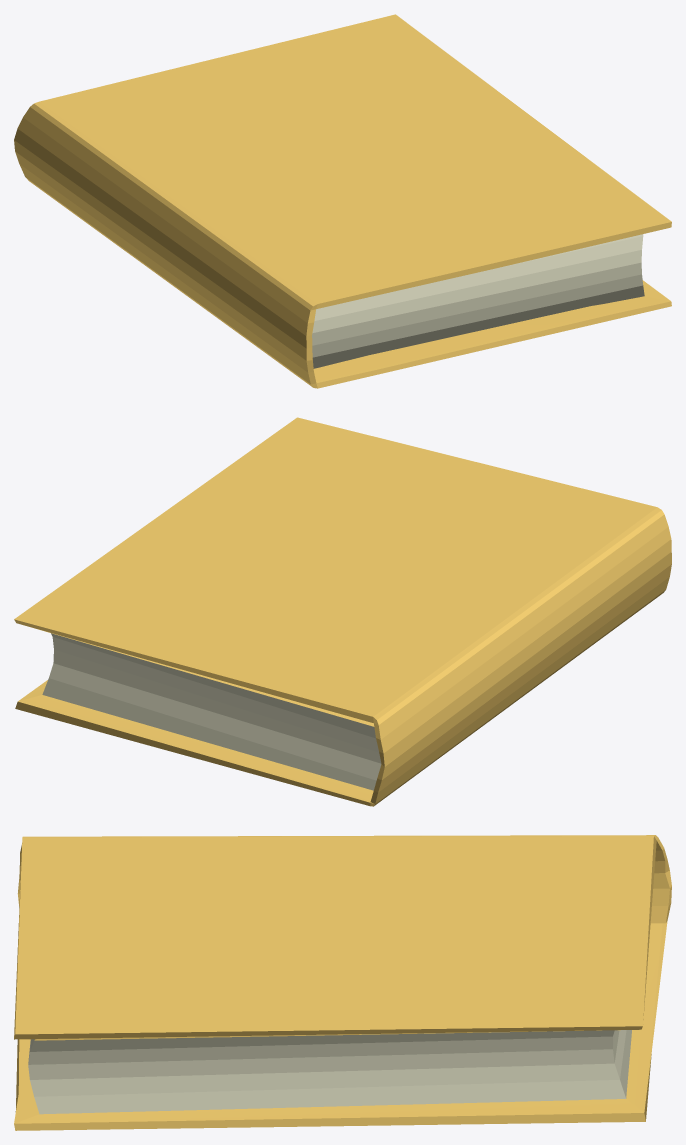
File: YellowPastelBook.fbx
3 views of the same model, one above another, from view 1: azimuth 30°, elevation 25°; view 2: azimuth 150°, elevation 25°; view 3: azimuth 270°, elevation 25° (orthographic). The views are drawn at different scales.
Parts seen in each view (by area): view 1: Cube; view 2: Cube; view 3: Cube.
Part boxes in pixels (x1,y1,x2,y2): Cube: (14, 14, 671, 388); Cube: (14, 417, 671, 806); Cube: (14, 835, 671, 1130).
Size of the model in its own units: 182 by 42.66 by 245.
